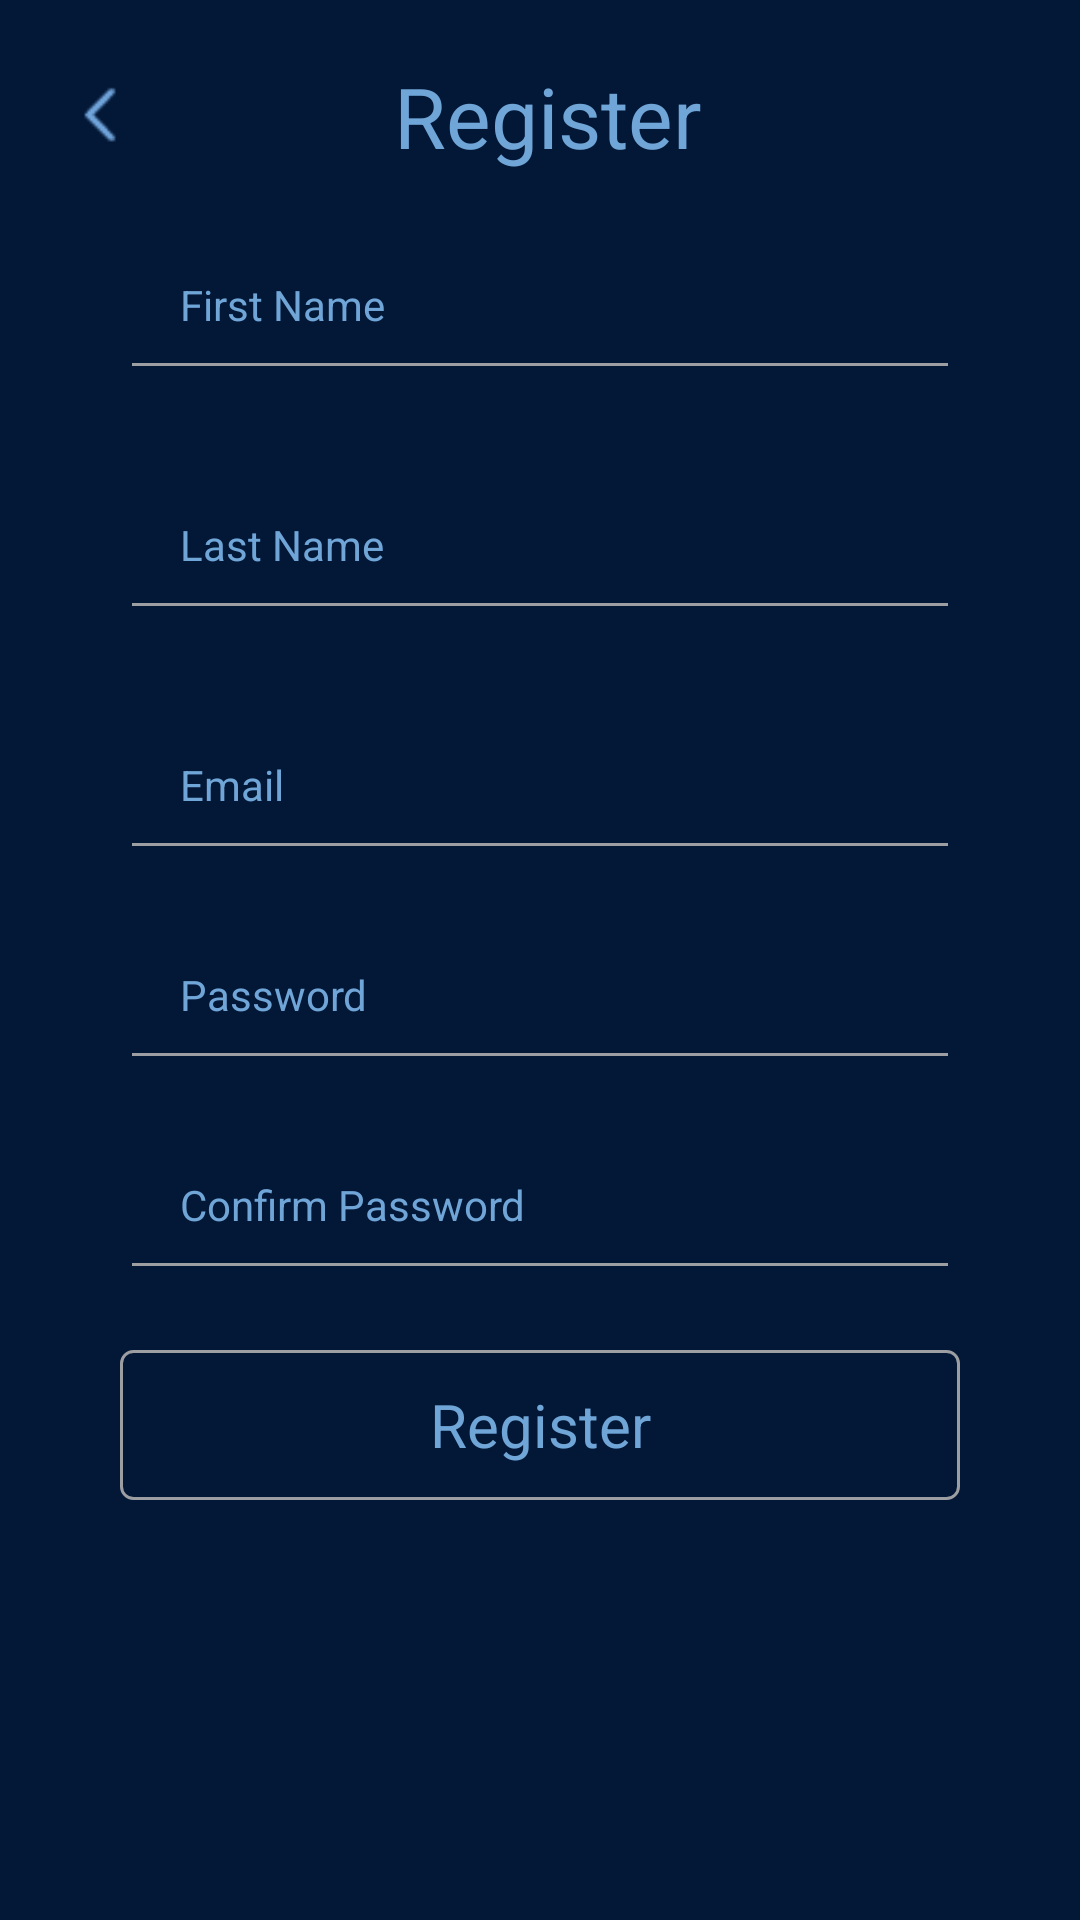

Icons on this 1080×1920 Android screen, each with its box as (x1, y1, x2, y2):
back: (84, 88, 116, 142)
